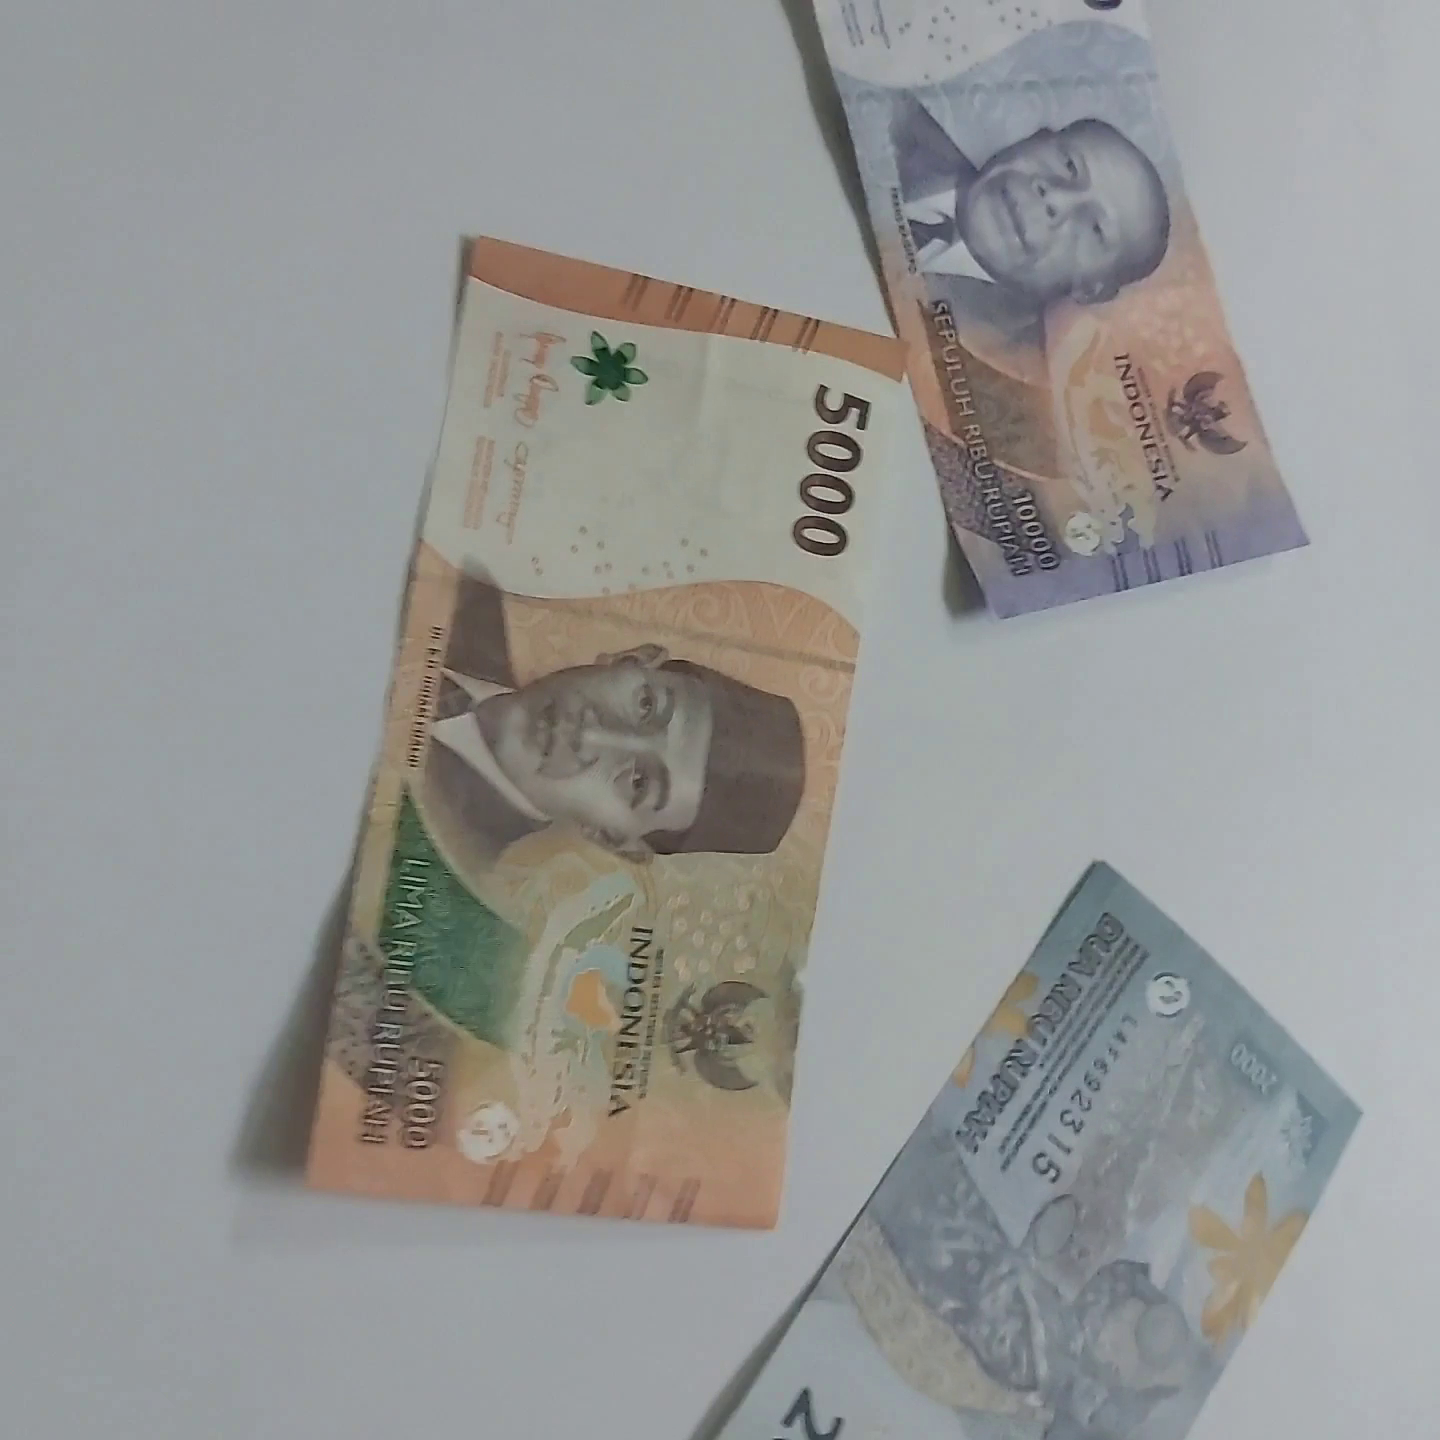10k: (808, 0, 1377, 605)
2k: (698, 864, 1419, 1440)
5k: (456, 208, 978, 1180)
